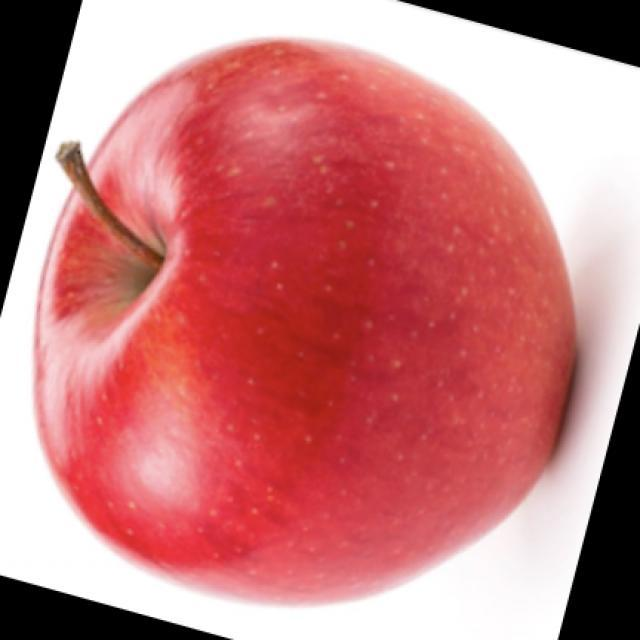Fresh Apple: (55, 57, 573, 590)
